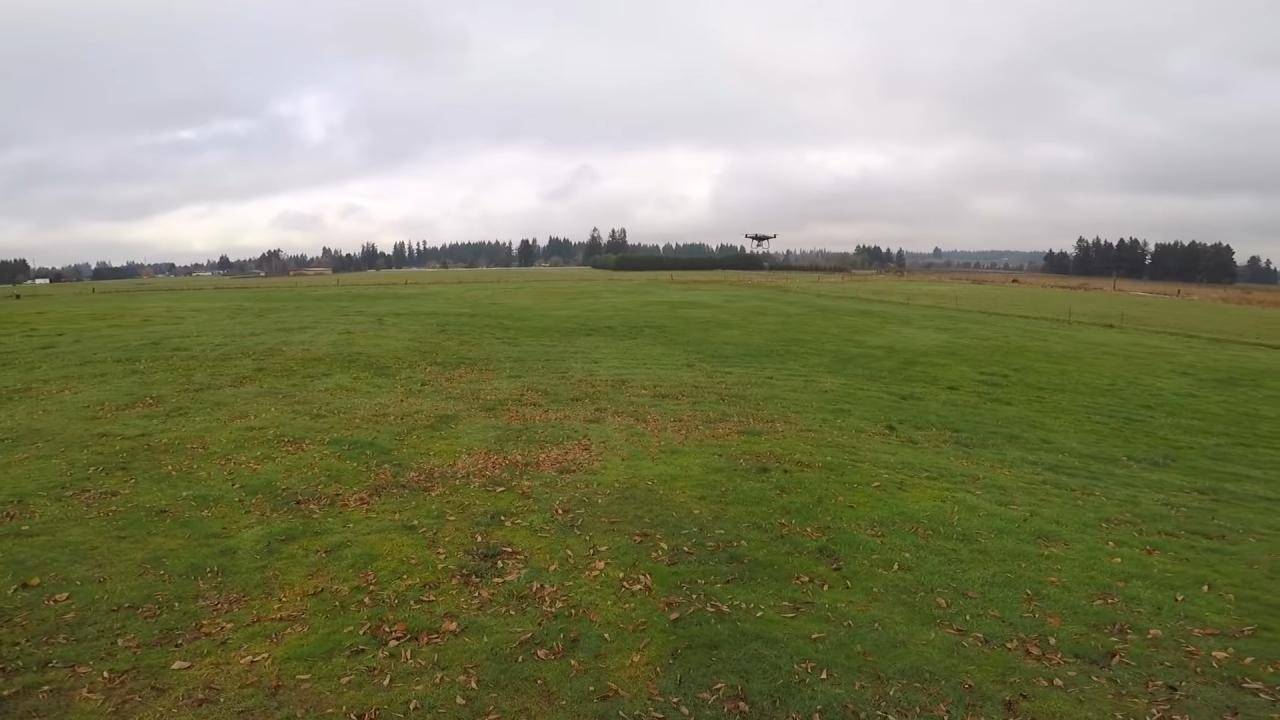Drone: (734, 224, 789, 253)
